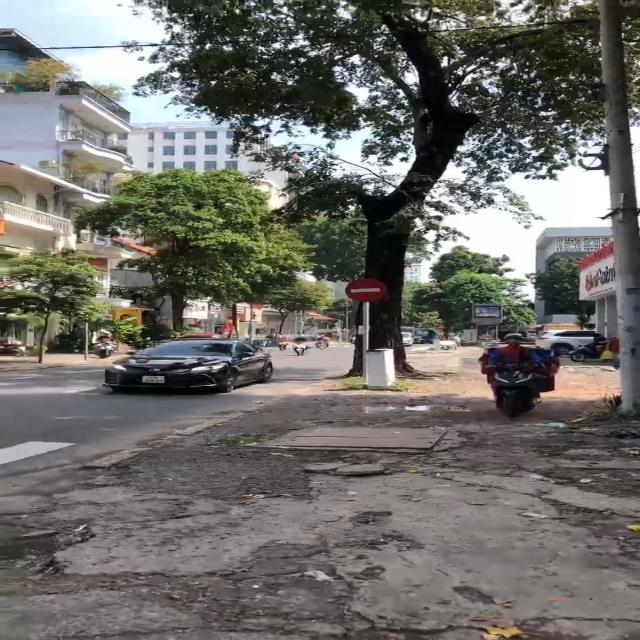Bien bao cam di nguoc chieu: (342, 274, 393, 305)
